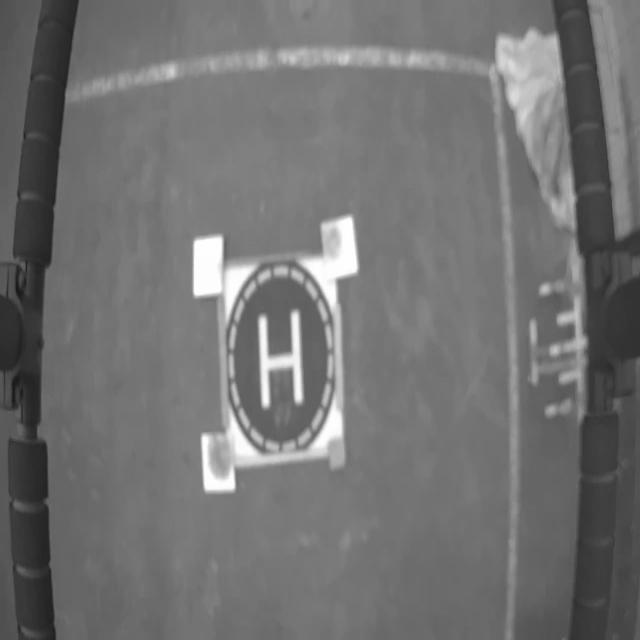Helipad: (257, 308, 303, 410)
